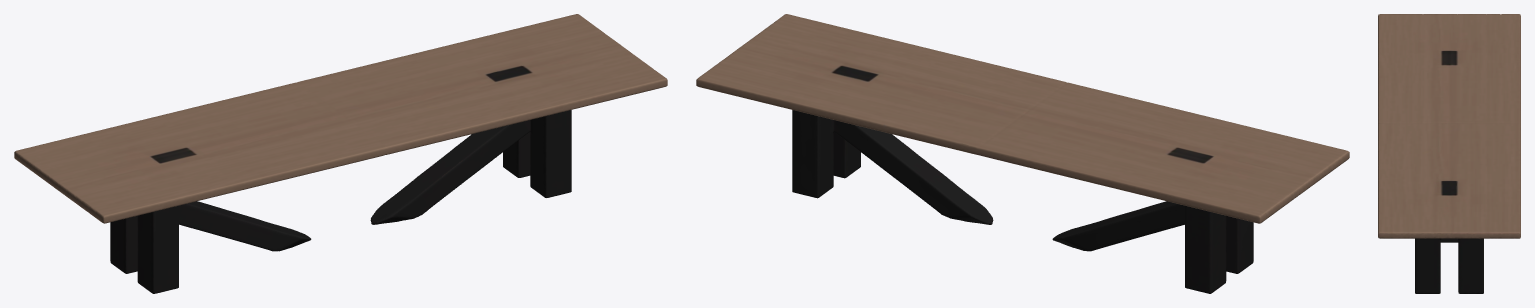
File: Modern Collaborative Office Table with Integrated Power Modules [0v7VZo].glb
The picture shows the model from 3 angles, left to right: view 1: azimuth 30°, elevation 25°; view 2: azimuth 150°, elevation 25°; view 3: azimuth 270°, elevation 25°; orthographic projection. The views are drawn at different scales.
Parts seen in each view (by area): view 1: world; view 2: world; view 3: world.
Boxes of the visible parts, x1,y1,x2,y2 form: world: (14, 14, 667, 293); world: (696, 14, 1349, 293); world: (1378, 14, 1520, 293).
Size of the model in its own units: 1 by 0.2015 by 0.2768.
Materials: 1 (1 with a texture image).
